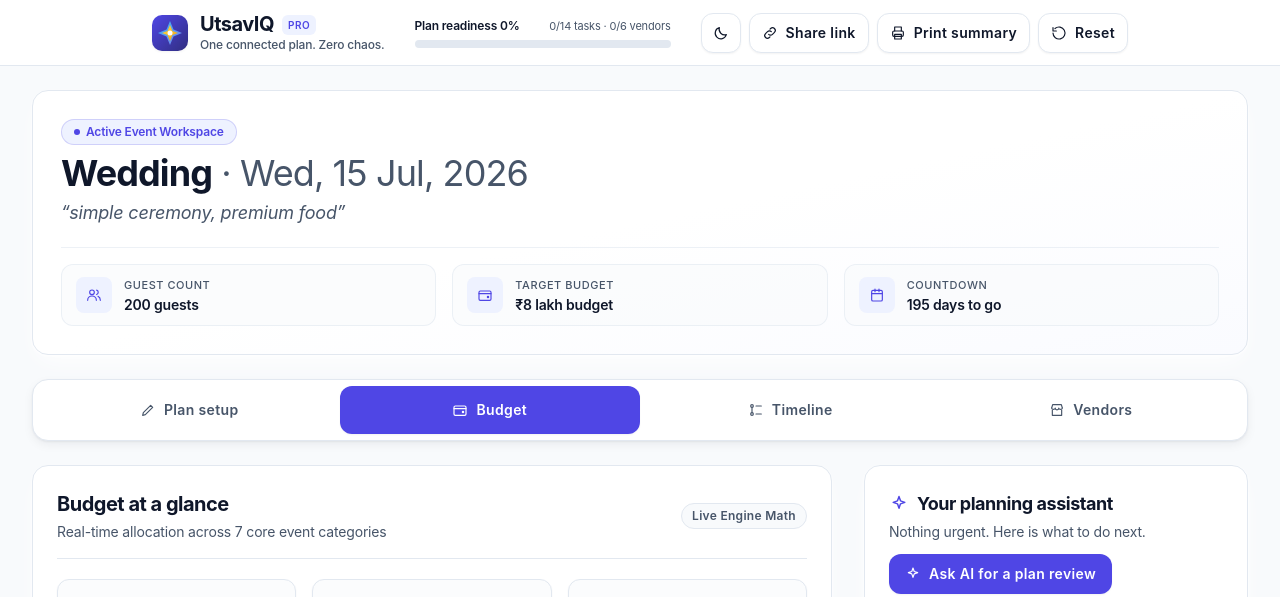
Test: budget controls: totals, per-plate and guests › reverts an impossible guest count on blur
Click the tab "Budget": {"x": 490, "y": 410} x1=340 y1=386 x2=640 y2=434
(page scrolled)
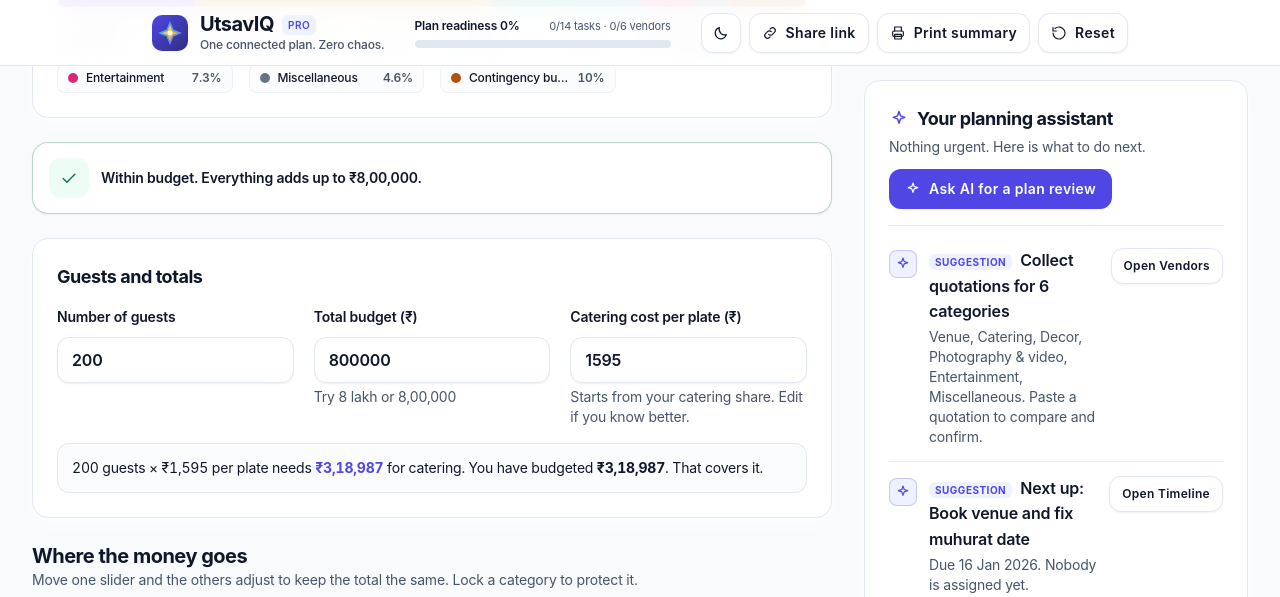
Replace the text in the number field labelled "Number of guests" with "0": {"x": 175, "y": 360} x1=57 y1=337 x2=294 y2=383
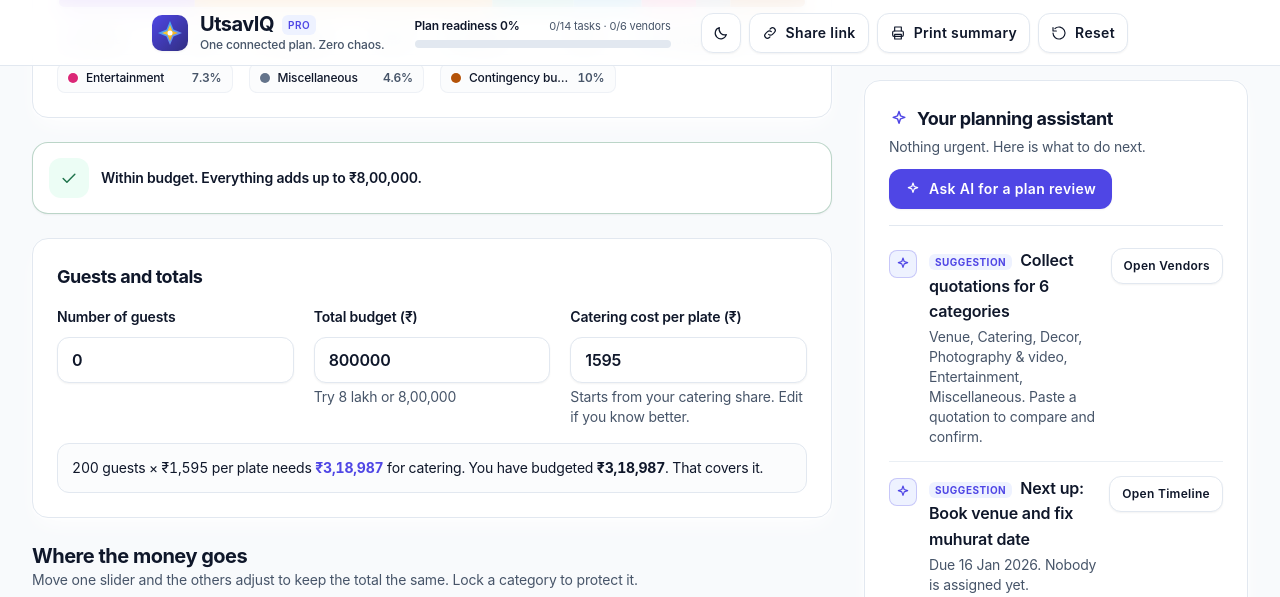
Leave the number field labelled "Number of guests", box x1=57 y1=337 x2=294 y2=383
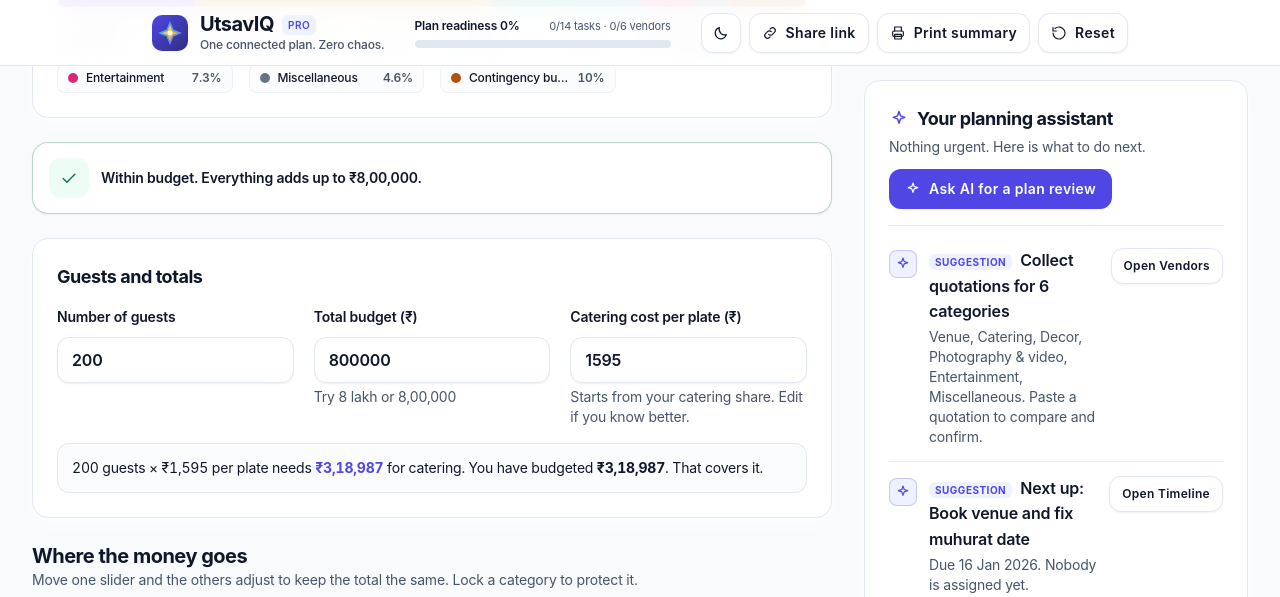
Result: the number field labelled "Number of guests" holds "200" at x1=57 y1=337 x2=294 y2=383
